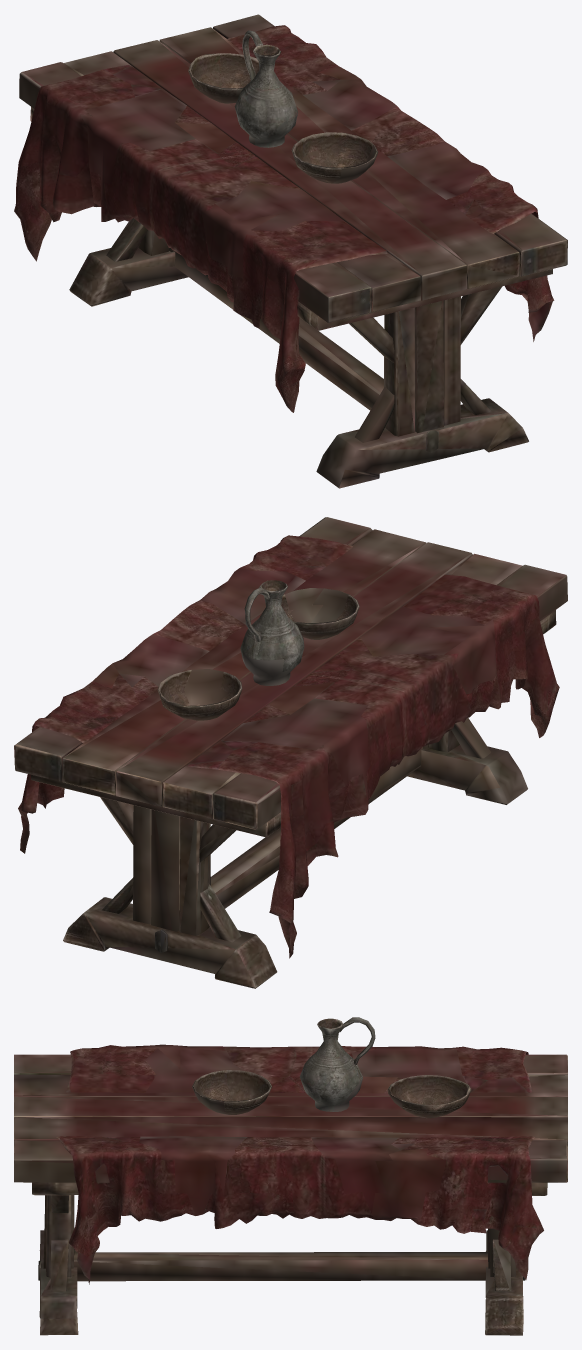
File: d_table_long_tablecloth_decorated_A.glb
3 renders of one model, top to bottom at view 1: azimuth 30°, elevation 25°; view 2: azimuth 150°, elevation 25°; view 3: azimuth 270°, elevation 25°, orthographic. The views are drawn at different scales.
Parts seen in each view (by area): view 1: d_table_long_tablecloth_decorated_A; view 2: d_table_long_tablecloth_decorated_A; view 3: d_table_long_tablecloth_decorated_A.
Part boxes in pixels (x1,y1,x2,y2): d_table_long_tablecloth_decorated_A: (14, 14, 567, 488); d_table_long_tablecloth_decorated_A: (14, 517, 567, 988); d_table_long_tablecloth_decorated_A: (14, 1017, 567, 1335).
Size of the model in its own units: 1.83 by 1.89 by 3.44.
Materials: 1 (1 with a texture image).
